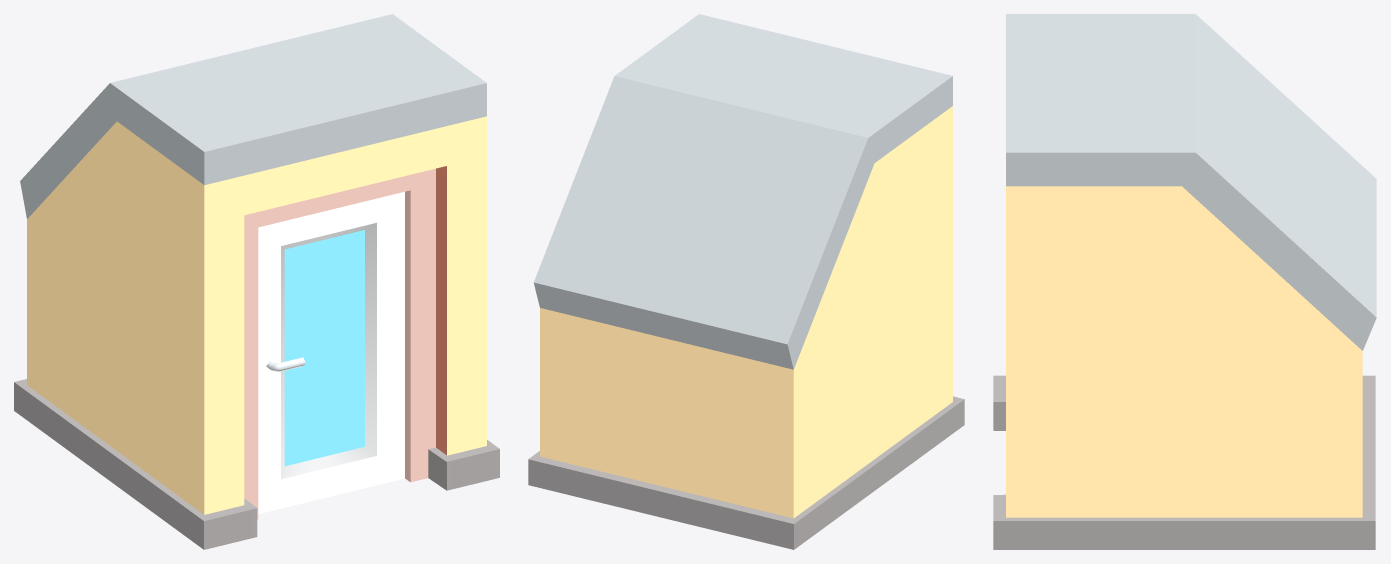
Rendered from Rooftop_Door_01.glb.
The picture shows the model from 3 angles, left to right: view 1: azimuth 30°, elevation 25°; view 2: azimuth 150°, elevation 25°; view 3: azimuth 270°, elevation 25°; orthographic projection. The views are drawn at different scales.
Visible parts, largest first — view 1: Rooftop_Door_01; view 2: Rooftop_Door_01; view 3: Rooftop_Door_01.
Part boxes in pixels (box(x1,y1,x2,y2)): Rooftop_Door_01: box(14, 14, 499, 549); Rooftop_Door_01: box(528, 14, 964, 549); Rooftop_Door_01: box(993, 14, 1376, 549).
Size of the model in its own units: 2.33 by 2.95 by 2.6.
Materials: 1 (1 with a texture image).
